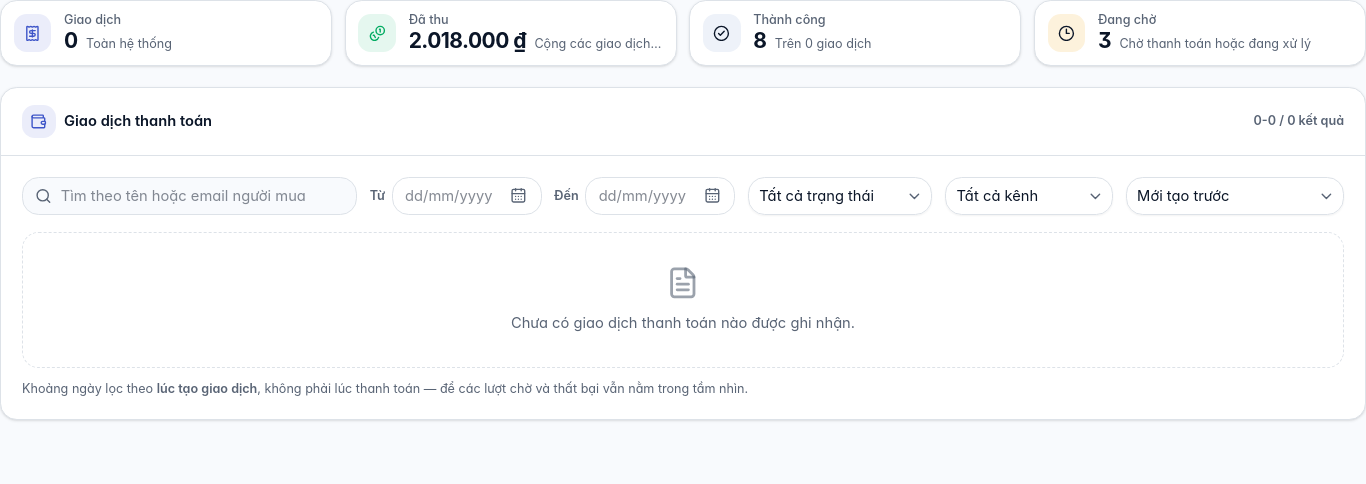
Test case: <AdminPaymentTransactionsPage /> — thanh bộ lọc một hàng › chỉ đặt 'Từ ngày' mà không khớp dòng nào thì báo 'không khớp bộ lọc', không phải 'chưa có giao dịch'
Expected: the text "Chưa có giao dịch thanh toán nào được ghi nhận." is shown, [22,232,1344,368]
Expected: the button "Xoá bộ lọc" is not shown
Type "05/10/2026" into the field named "Từ ngày" at (466, 196), box [392,177,542,215]
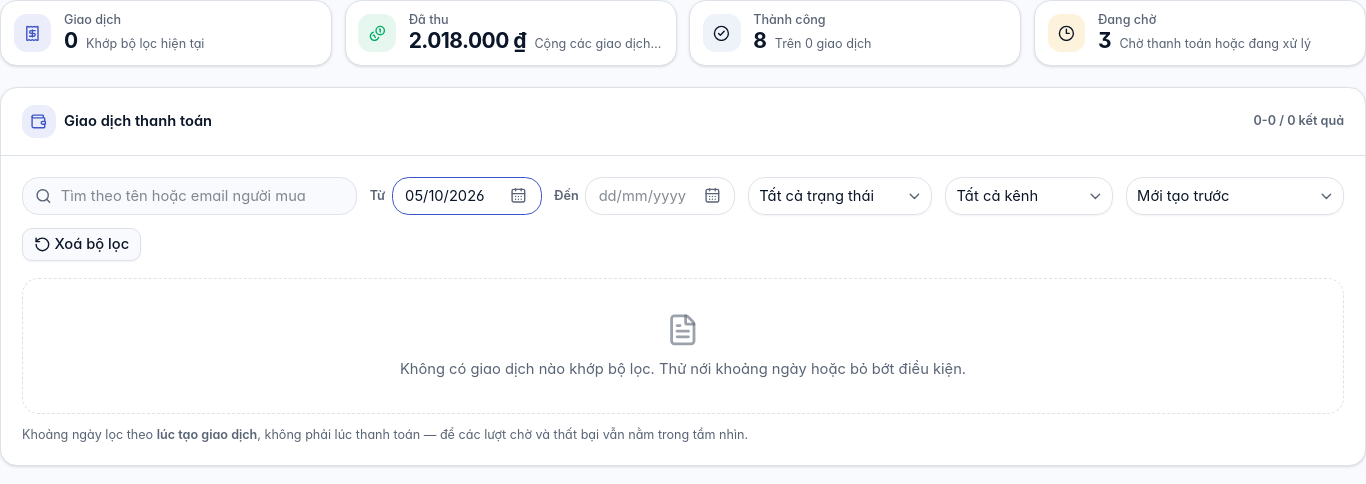
Expected: the text "Không có giao dịch nào khớp bộ lọc" is shown, [400,360,966,378]
Expected: the button "Xoá bộ lọc" is shown, [22,228,141,261]
